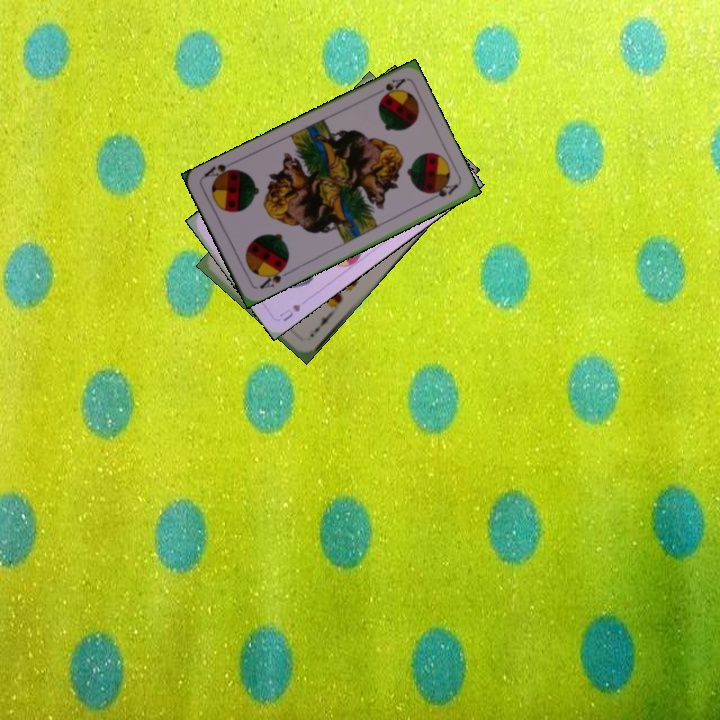E7: (306, 310, 334, 340)
SA: (256, 262, 292, 292), (375, 74, 407, 102)
SU: (275, 300, 303, 324)
